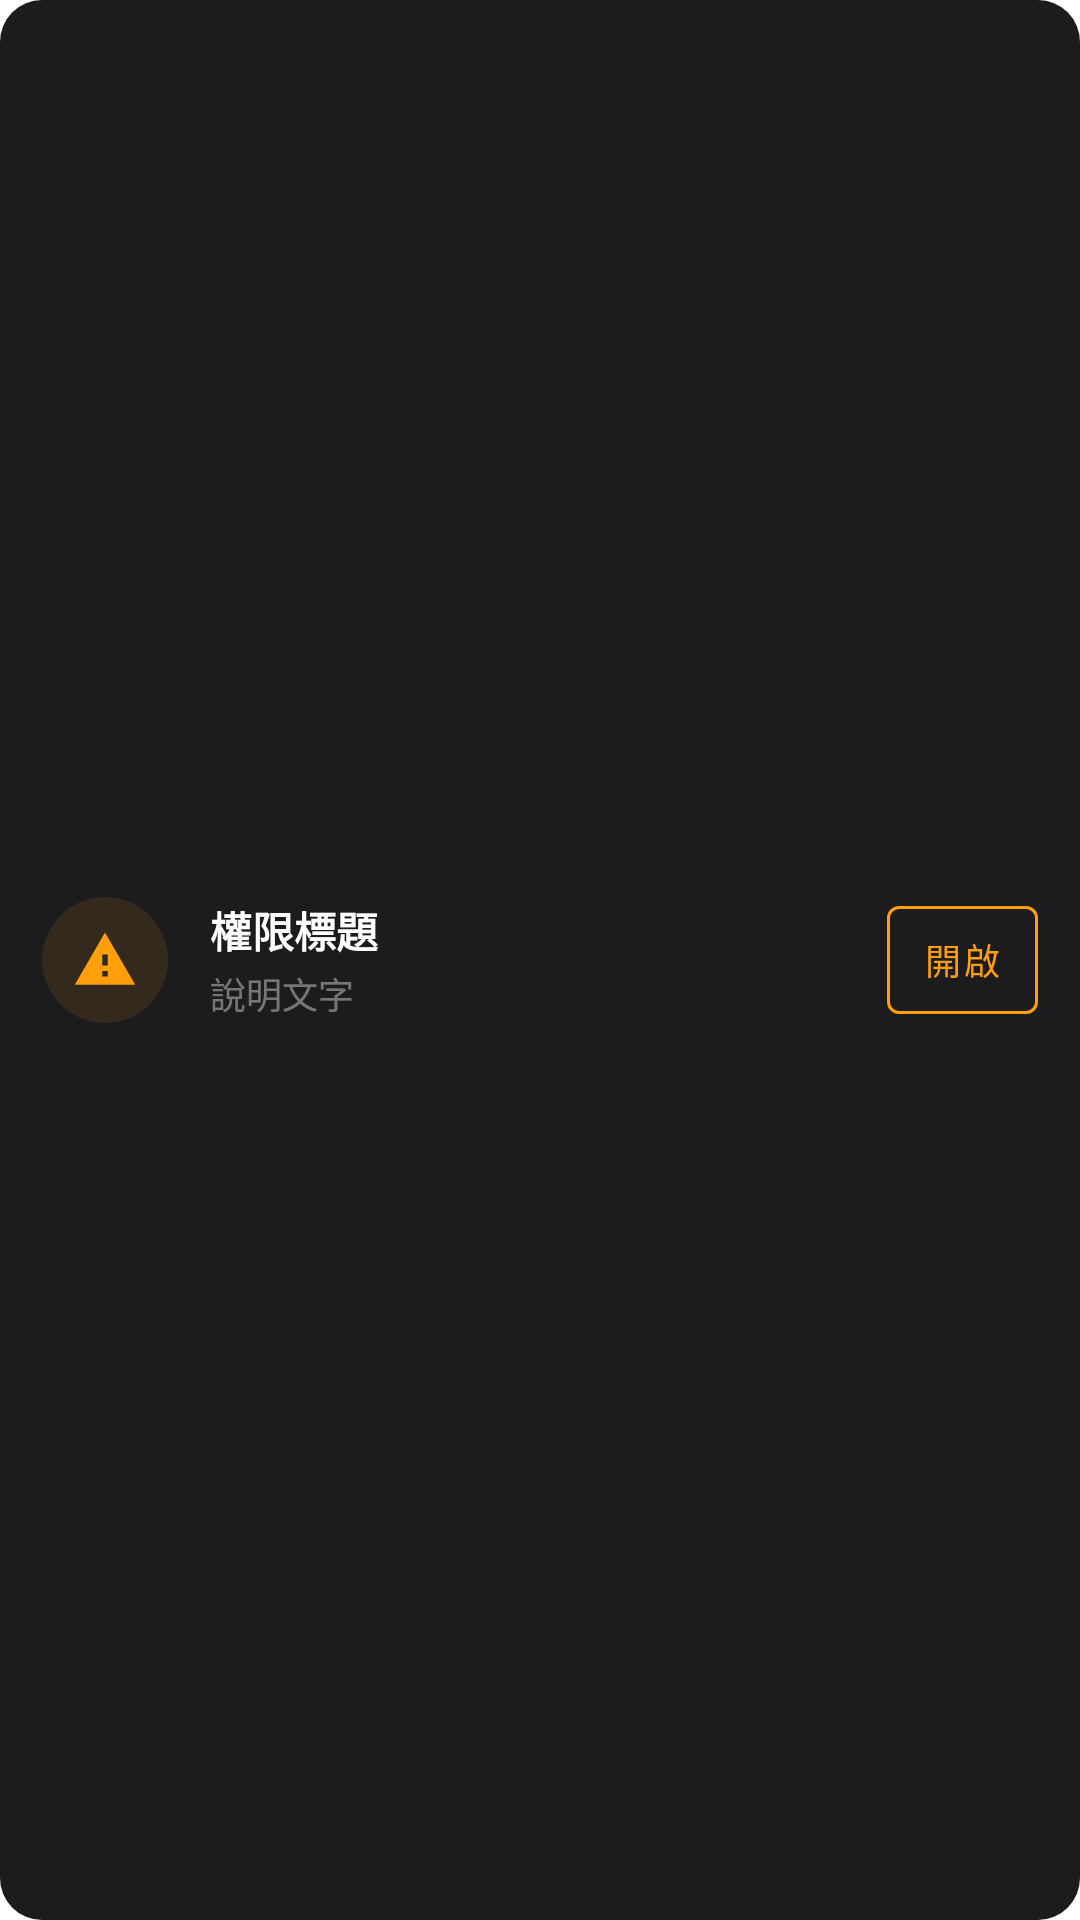

Named icons in this screenshot (1080 × 1920) and their centers, (x=x, y=y):
warning: (x=105, y=959)
